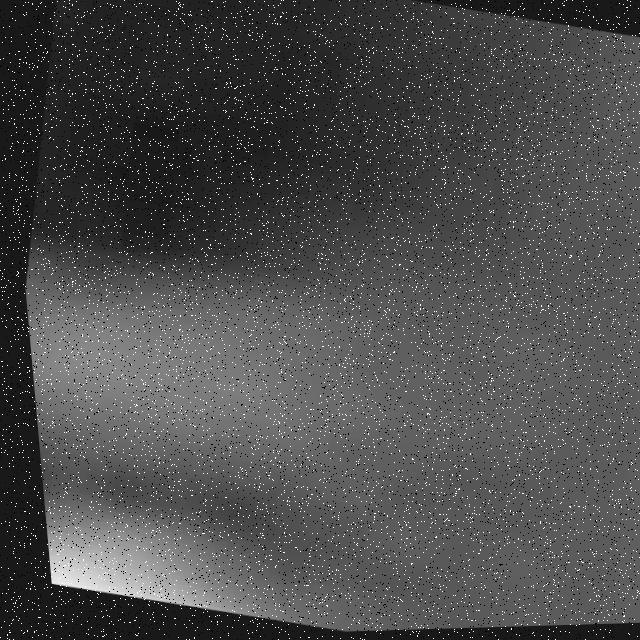person: (17, 216, 517, 522), (37, 506, 293, 631)
